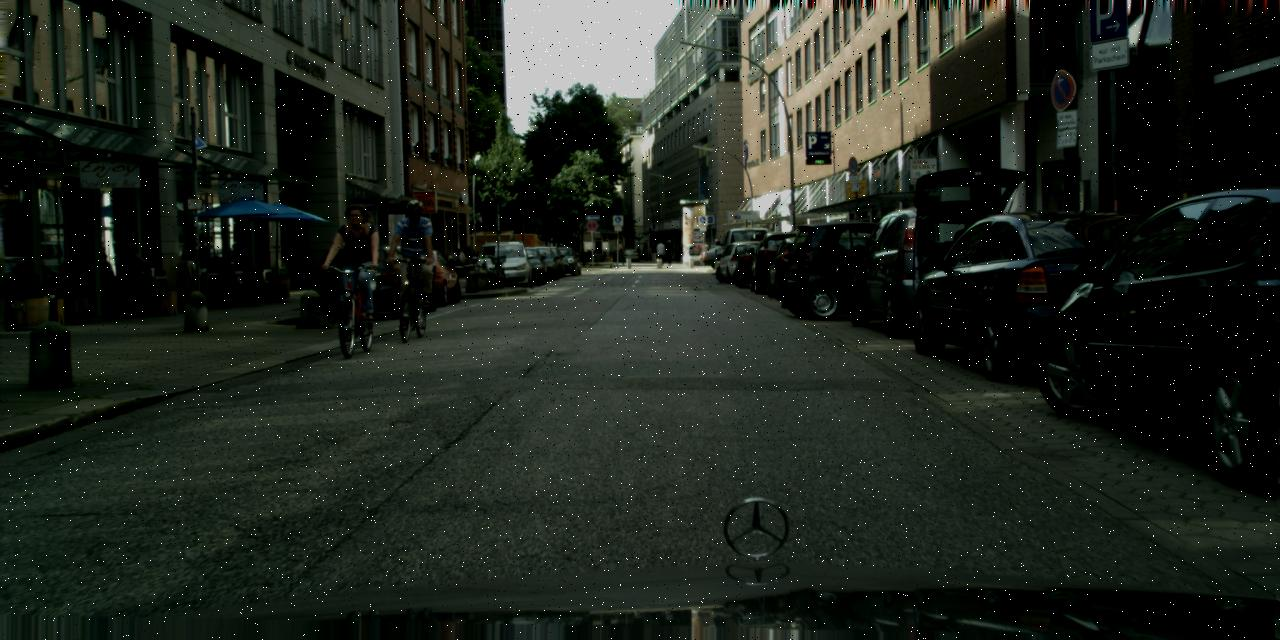ped: (332, 203, 382, 325), (392, 199, 438, 313), (664, 238, 674, 266), (655, 240, 665, 264), (648, 240, 658, 262), (615, 240, 624, 264), (641, 242, 648, 260), (674, 245, 680, 262), (636, 246, 640, 258)
